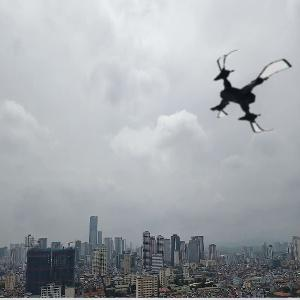drone: (205, 44, 300, 139)
